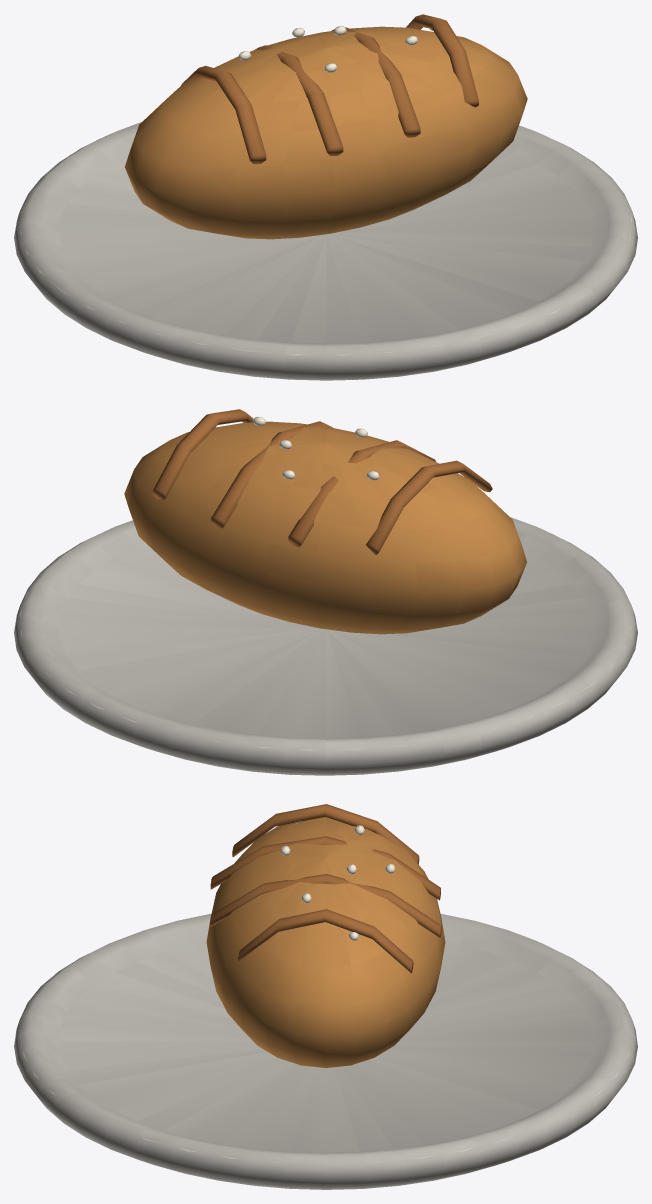
Rendered from salt-bread.glb.
3 views of the same model, one above another, from view 1: azimuth 30°, elevation 25°; view 2: azimuth 150°, elevation 25°; view 3: azimuth 270°, elevation 25° (orthographic).
Visible parts, largest first — view 1: Shared_milky_white_round_glass_plate, Salt_bread_compact_butter_roll_body, Salt_bread_rolled_dough_seam_1, Salt_bread_rolled_dough_seam_2, Salt_bread_rolled_dough_seam_4, Salt_bread_rolled_dough_seam_3; view 2: Shared_milky_white_round_glass_plate, Salt_bread_compact_butter_roll_body, Salt_bread_rolled_dough_seam_1, Salt_bread_rolled_dough_seam_4, Salt_bread_rolled_dough_seam_3, Salt_bread_rolled_dough_seam_2; view 3: Shared_milky_white_round_glass_plate, Salt_bread_compact_butter_roll_body, Salt_bread_rolled_dough_seam_4, Salt_bread_rolled_dough_seam_1, Salt_bread_rolled_dough_seam_3, Salt_bread_rolled_dough_seam_2.
Boxes of the visible parts, x1,y1,x2,y2 form: Shared_milky_white_round_glass_plate: [14, 122, 637, 380]; Salt_bread_compact_butter_roll_body: [125, 26, 527, 239]; Salt_bread_rolled_dough_seam_1: [181, 65, 266, 164]; Salt_bread_rolled_dough_seam_2: [255, 45, 343, 155]; Salt_bread_rolled_dough_seam_4: [406, 14, 478, 107]; Salt_bread_rolled_dough_seam_3: [331, 27, 420, 137]; Shared_milky_white_round_glass_plate: [14, 517, 637, 775]; Salt_bread_compact_butter_roll_body: [124, 421, 526, 634]; Salt_bread_rolled_dough_seam_1: [366, 460, 492, 554]; Salt_bread_rolled_dough_seam_4: [153, 409, 253, 500]; Salt_bread_rolled_dough_seam_3: [211, 421, 332, 528]; Salt_bread_rolled_dough_seam_2: [288, 440, 435, 546]; Shared_milky_white_round_glass_plate: [14, 913, 637, 1189]; Salt_bread_compact_butter_roll_body: [206, 817, 445, 1067]; Salt_bread_rolled_dough_seam_4: [238, 909, 413, 973]; Salt_bread_rolled_dough_seam_1: [232, 804, 419, 864]; Salt_bread_rolled_dough_seam_3: [210, 874, 441, 937]; Salt_bread_rolled_dough_seam_2: [210, 836, 440, 900].
Bounding box in the file's own units: 0.94 × 0.3762 × 0.94.
